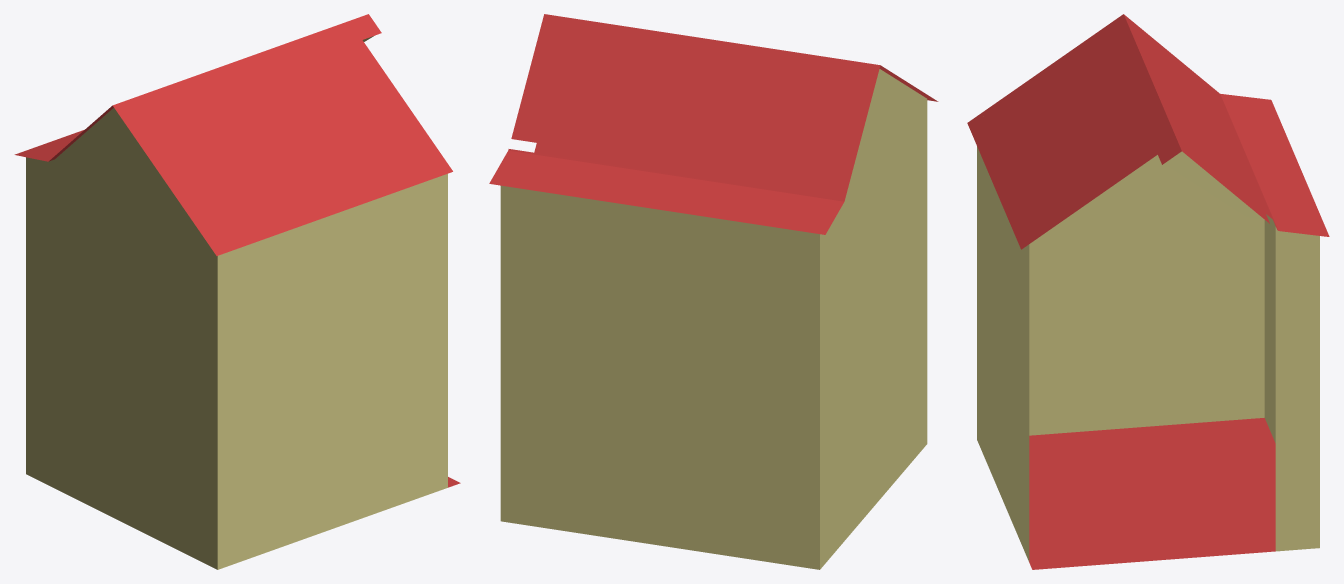
3 views of the same model, side by side, from view 1: azimuth 30°, elevation 25°; view 2: azimuth 150°, elevation 25°; view 3: azimuth 270°, elevation 25° (orthographic). The views are drawn at different scales.
Bounding box in the file's own units: 11.07 × 10.85 × 13.57.
